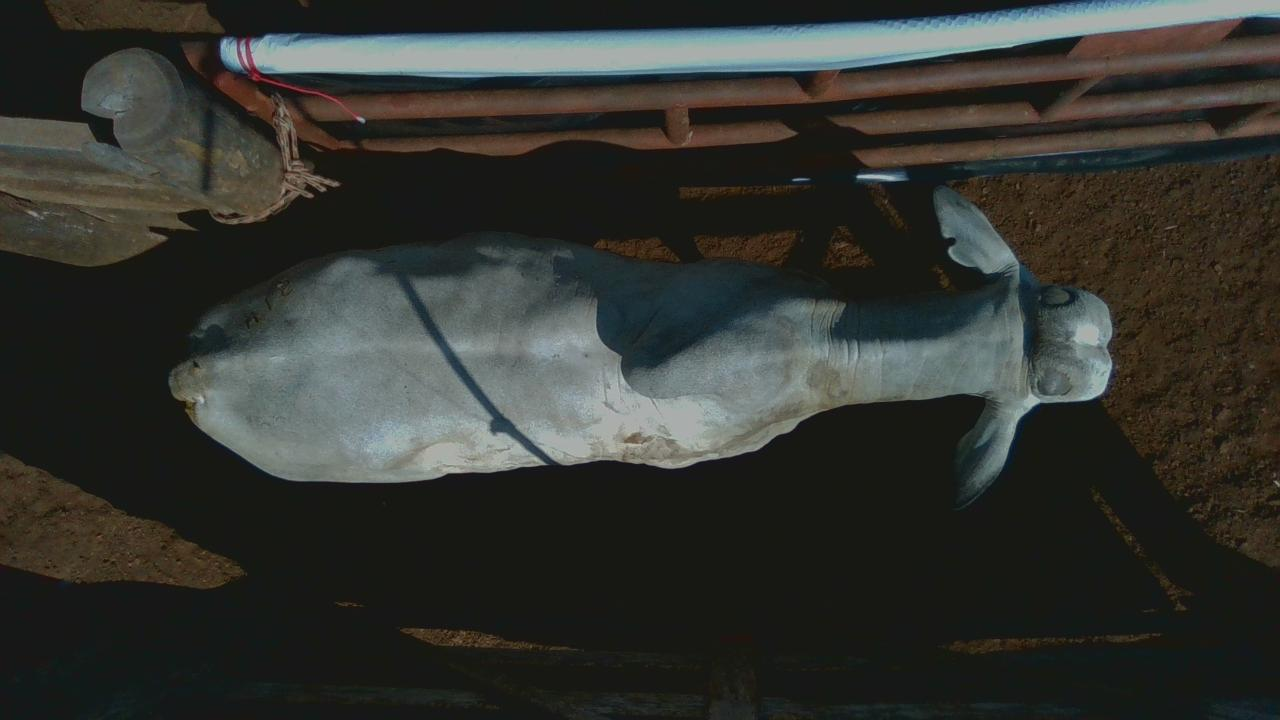cattle: (167, 182, 1115, 508)
